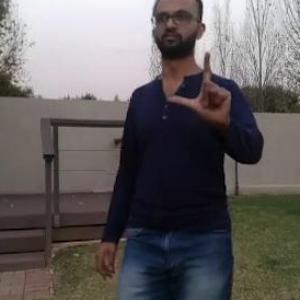land_hand: (168, 48, 236, 127)
